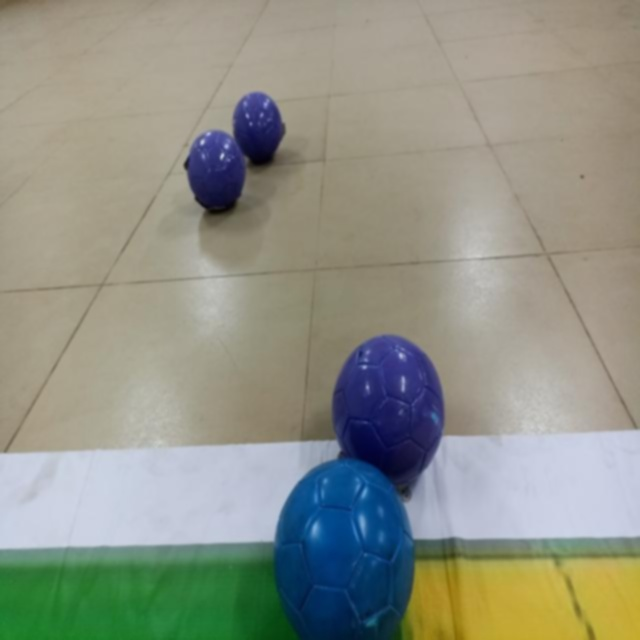blue_ball: (269, 450, 418, 640)
purple_ball: (332, 325, 451, 488), (186, 117, 244, 223), (231, 84, 294, 170)
